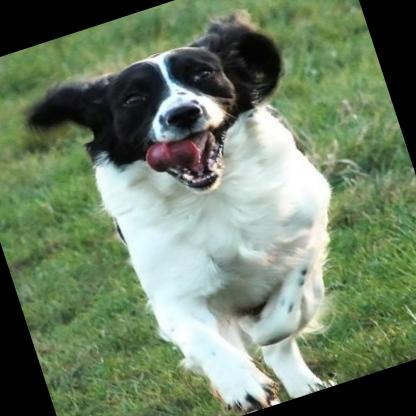English_springer: (14, 1, 384, 416)
